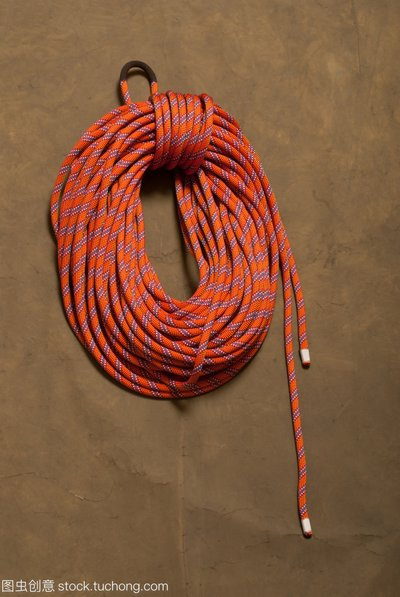9/可回收垃圾/绳子: (48, 60, 315, 538)
